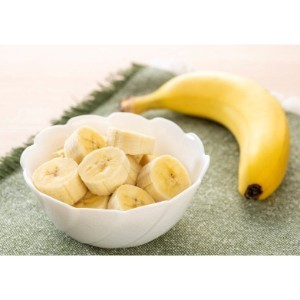banana_brain food: (31, 124, 181, 210), (215, 66, 293, 199)
